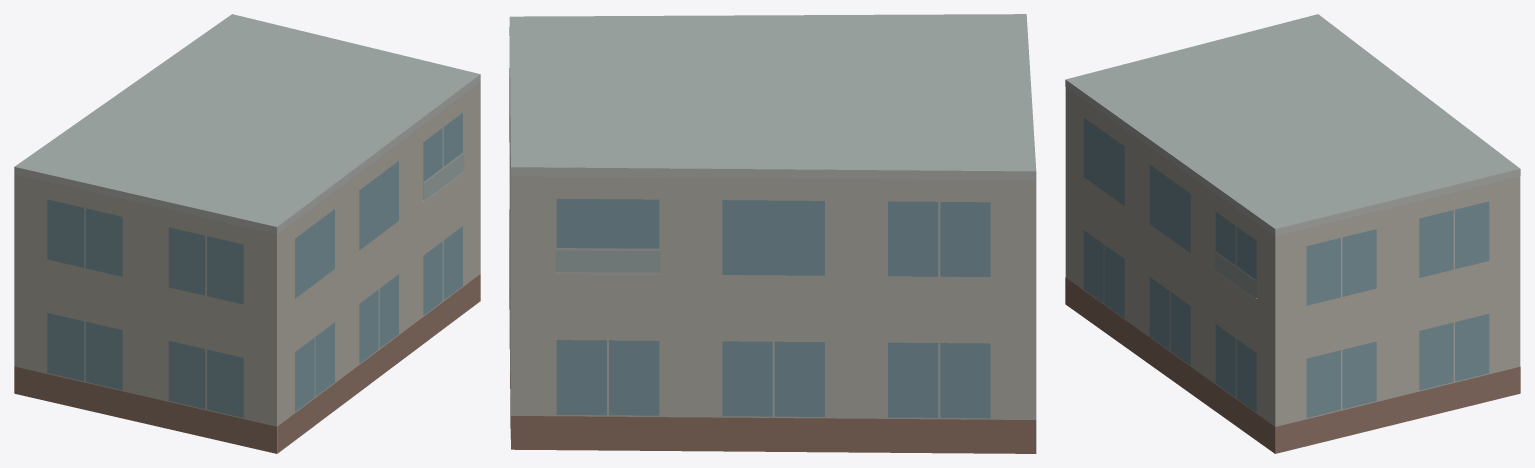
Rendered from survey-upis-32929784.glb.
3 renders of one model, left to right at view 1: azimuth 30°, elevation 25°; view 2: azimuth 150°, elevation 25°; view 3: azimuth 270°, elevation 25°, orthographic. The views are drawn at different scales.
Parts seen in each view (by area): view 1: survey-upis-32929784.tmp; view 2: survey-upis-32929784.tmp; view 3: survey-upis-32929784.tmp.
Boxes of the visible parts, x1,y1,x2,y2 form: survey-upis-32929784.tmp: (14,14,480,453); survey-upis-32929784.tmp: (509,14,1036,453); survey-upis-32929784.tmp: (1065,14,1520,453).
Size of the model in its own units: 15.6 by 7.6 by 13.95.
